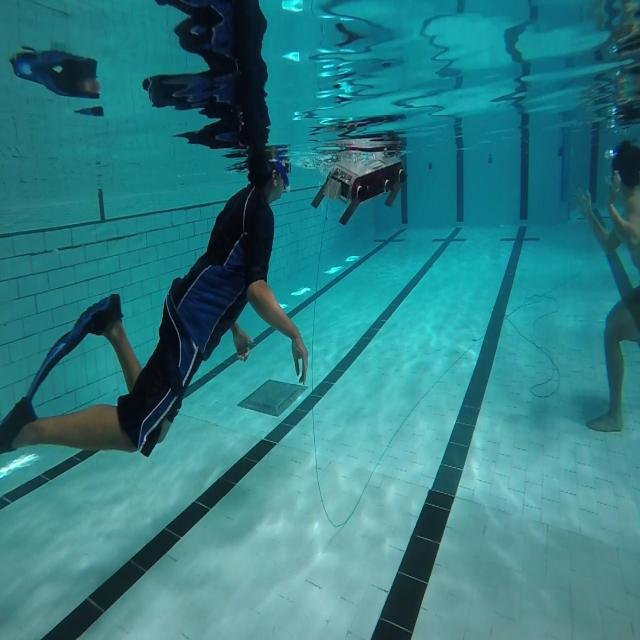human: (0, 143, 309, 459), (574, 138, 639, 433)
